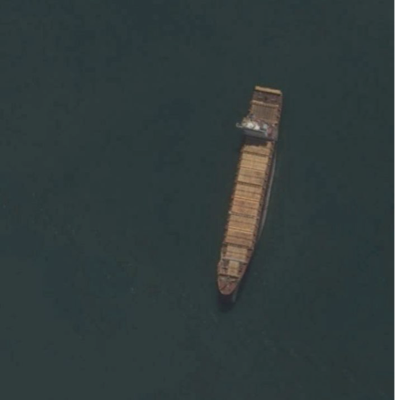boat: (214, 85, 285, 298)
